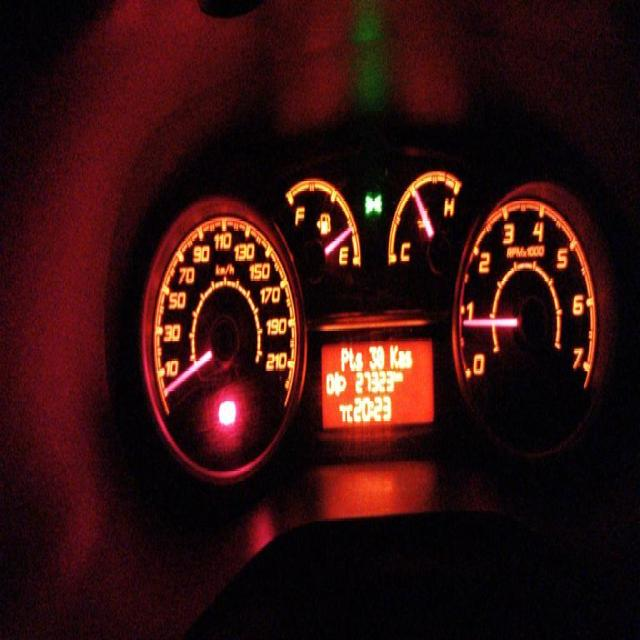odometer: (318, 337, 434, 432)
